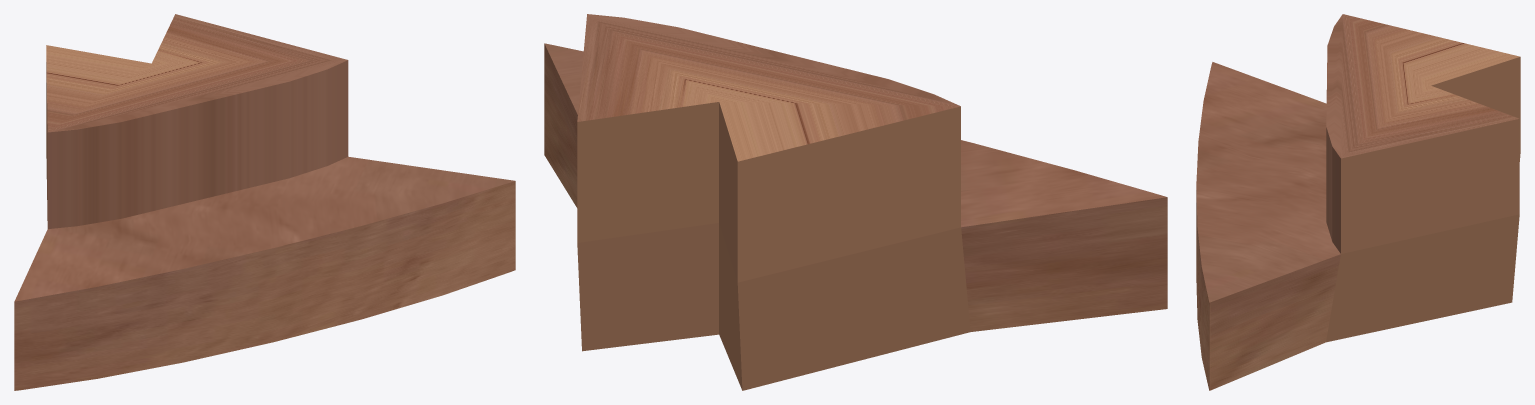
The model's file is Esacada triangula.fbx.
3 views of the same model, side by side, from view 1: azimuth 30°, elevation 25°; view 2: azimuth 150°, elevation 25°; view 3: azimuth 270°, elevation 25° (orthographic). The views are drawn at different scales.
Visible parts, largest first — view 1: Escada triagulo; view 2: Escada triagulo; view 3: Escada triagulo.
Part boxes in pixels (x1=…): Escada triagulo: x1=14, y1=14, x2=515, y2=390; Escada triagulo: x1=544, y1=14, x2=1167, y2=390; Escada triagulo: x1=1196, y1=14, x2=1520, y2=390.
Size of the model in its own units: 2.13 by 0.7856 by 1.21.
Materials: 1 (1 with a texture image).
